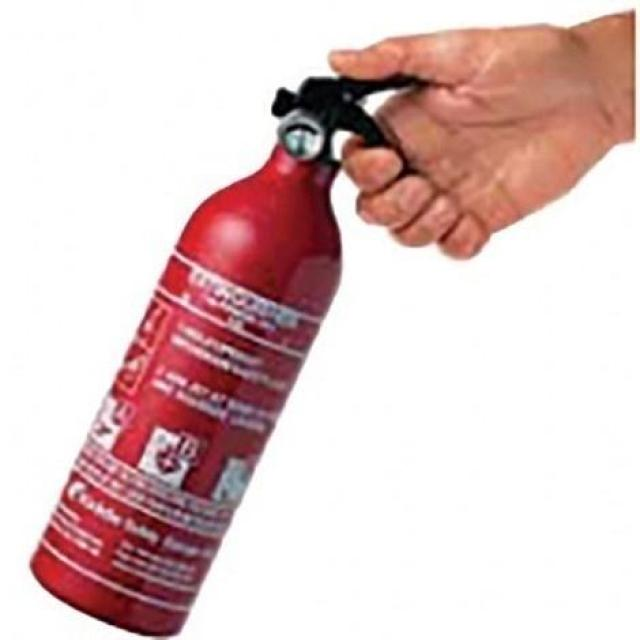fire_extinguisher: (21, 59, 468, 638)
